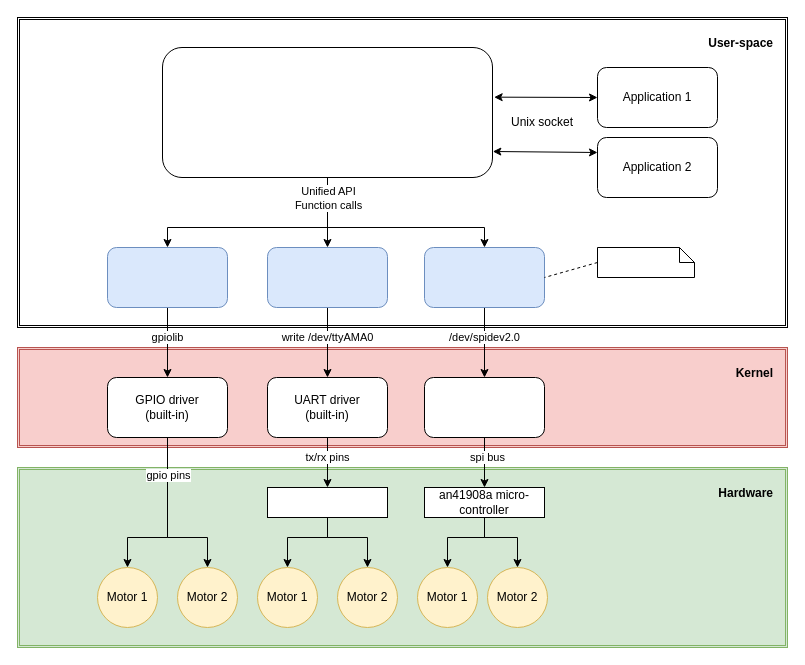
The diagram is 805 pixels wide and 665 high, and some of its shapes have lost their labels. The shapes that lost their labels are listed below. From the top down, each one's centre as x and y in pixels, then its label:
At (x=327, y=112): "Motors-daemon".
At (x=167, y=277): "Kmotor driver-wrapper".
At (x=327, y=277): "PELCO protocol driver-wrapper".
At (x=484, y=277): "an41908a protocol driver-wrapper".
At (x=645, y=262): ".so libraries".
At (x=484, y=407): "SPI driver (built-in)".
At (x=327, y=502): "external micro-controller".
